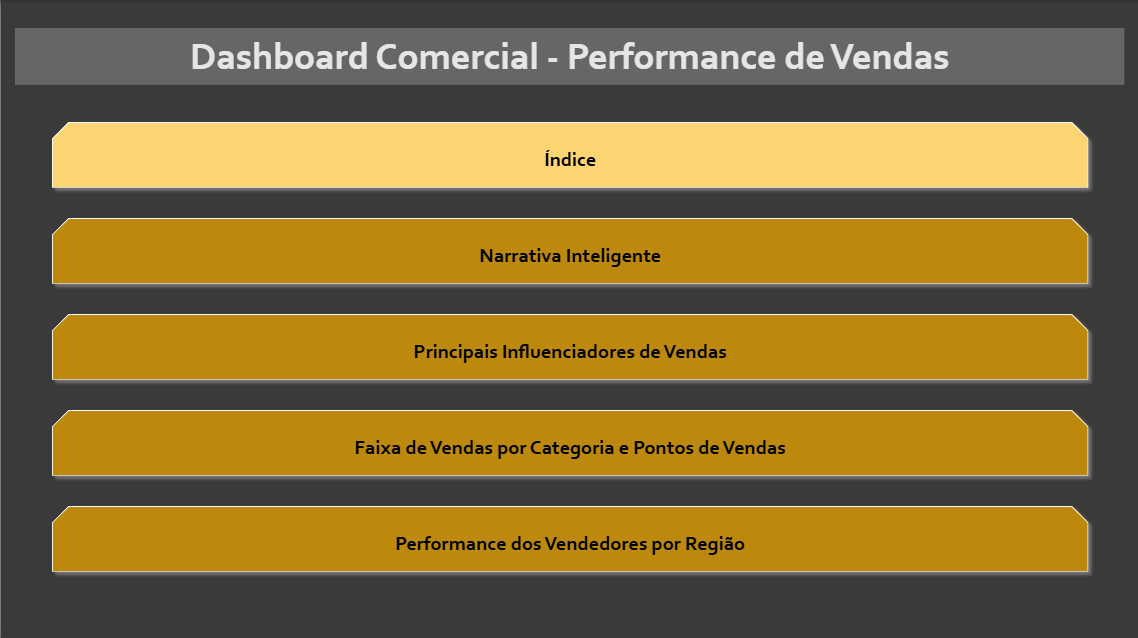

What the dashboard file says about the page in this screenshot:
{"tool":"powerbi","page":{"name":"Índice","canvas":[1280,720],"ordinal":0},"visuals":[{"type":"textbox","box":[16,32,1248,64],"z":1000},{"type":"pageNavigator","box":[48,128,1184,528],"z":2000}]}

Visuals, with their boxes in screenshot pixels (x1, y1, x2, y2), scaled from the page's 1280x720 canvas onto the 1138x638 screenshot:
textbox: bbox(14, 28, 1124, 85)
pageNavigator: bbox(43, 113, 1095, 581)
